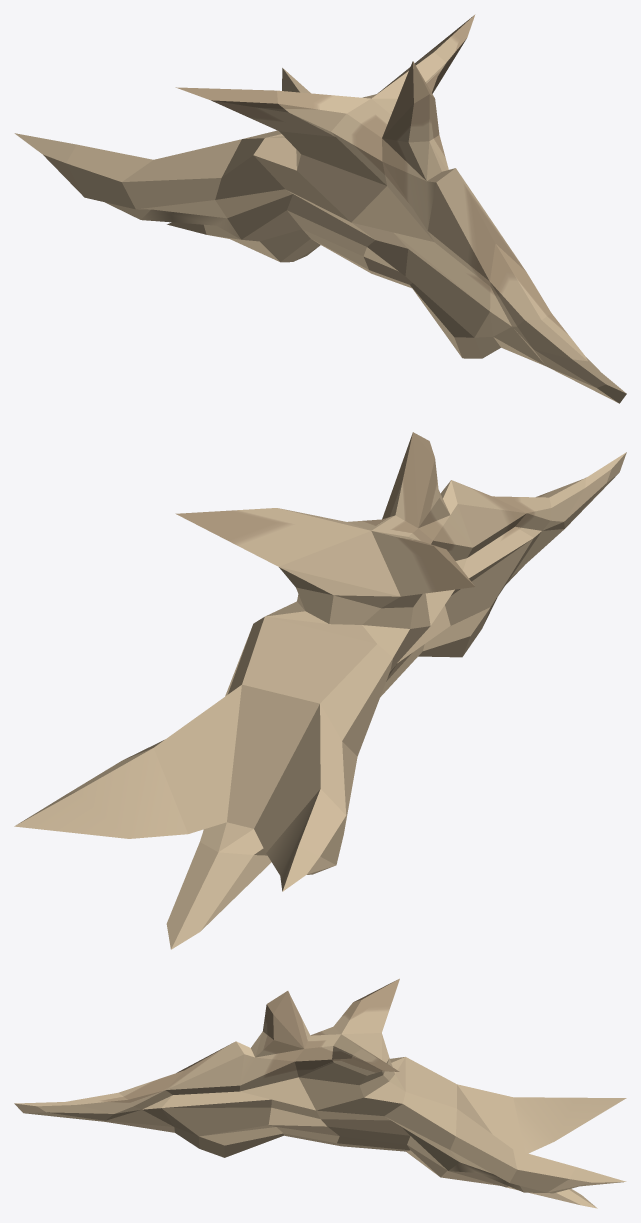
Rendered from SM_Veh_Ship_M_Ram_02.fbx.
3 views of the same model, one above another, from view 1: azimuth 30°, elevation 25°; view 2: azimuth 150°, elevation 25°; view 3: azimuth 270°, elevation 25° (orthographic). The views are drawn at different scales.
Visible parts, largest first — view 1: SM_Veh_Ship_M_Ram_02; view 2: SM_Veh_Ship_M_Ram_02; view 3: SM_Veh_Ship_M_Ram_02.
Part boxes in pixels (x1,y1,x2,y2): SM_Veh_Ship_M_Ram_02: [14, 14, 626, 403]; SM_Veh_Ship_M_Ram_02: [14, 432, 626, 949]; SM_Veh_Ship_M_Ram_02: [14, 978, 626, 1208].
Bounding box in the file's own units: 350 × 379 × 966.
